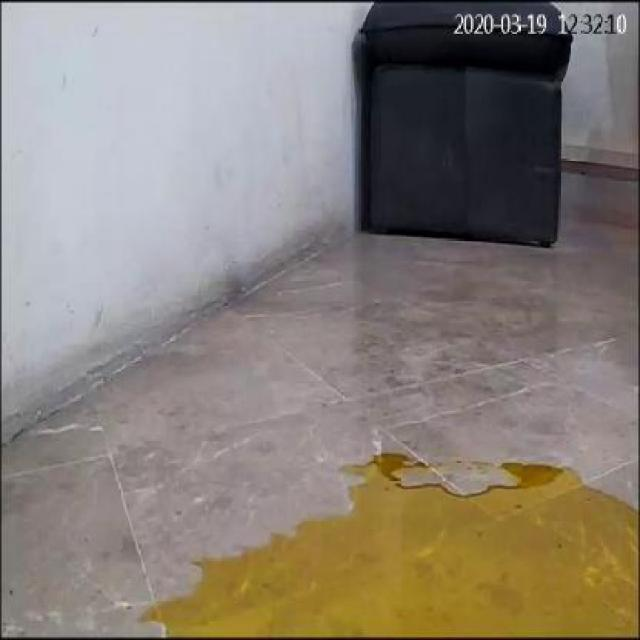spill: (147, 448, 635, 632)
